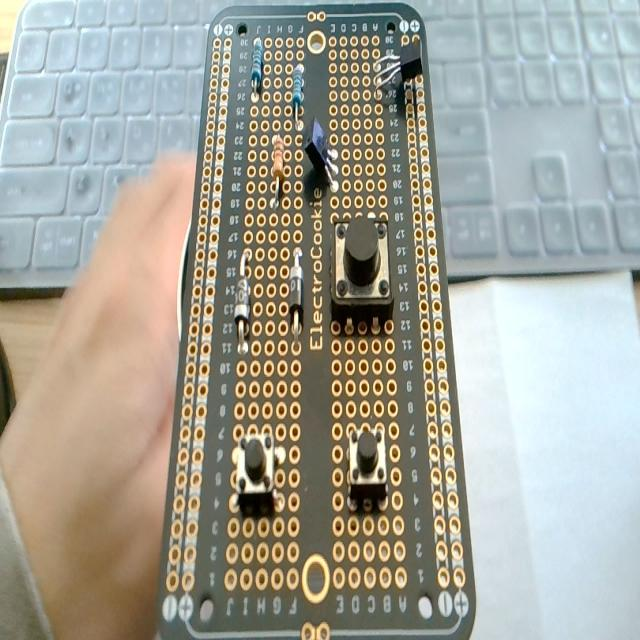diode: (234, 250, 252, 354), (289, 246, 304, 341)
resistor: (270, 134, 286, 208), (250, 36, 264, 98)
switch: (330, 216, 392, 334), (233, 428, 282, 513), (347, 424, 388, 510)
transistor: (374, 39, 424, 110), (302, 114, 341, 195)
